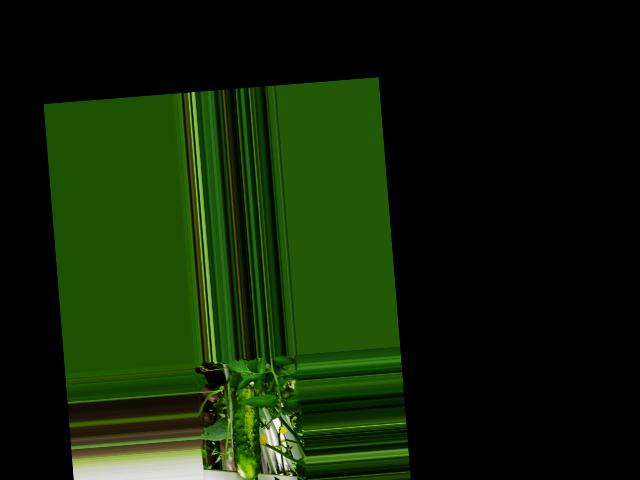cucumber: (228, 384, 263, 480)
